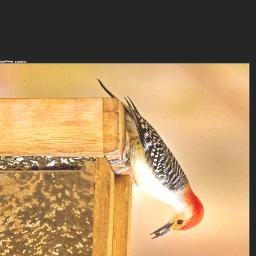Woodpecker: (96, 78, 205, 239)
